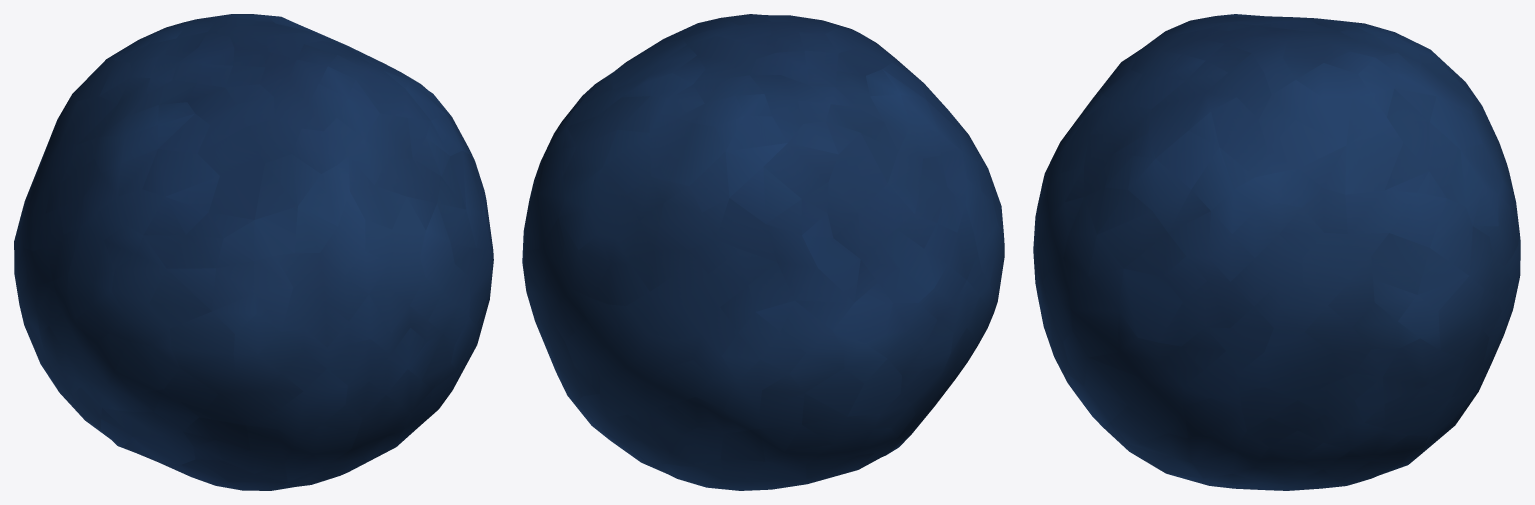
3 renders of one model, left to right at view 1: azimuth 30°, elevation 25°; view 2: azimuth 150°, elevation 25°; view 3: azimuth 270°, elevation 25°, orthographic. The views are drawn at different scales.
Parts seen in each view (by area): view 1: alt1.314; view 2: alt1.314; view 3: alt1.314.
Boxes of the visible parts, box(x1,y1,x2,y2) form: alt1.314: box(14, 14, 493, 490); alt1.314: box(522, 14, 1004, 490); alt1.314: box(1033, 14, 1520, 490).
Bounding box in the file's own units: 0.4993 × 0.492 × 0.5.
